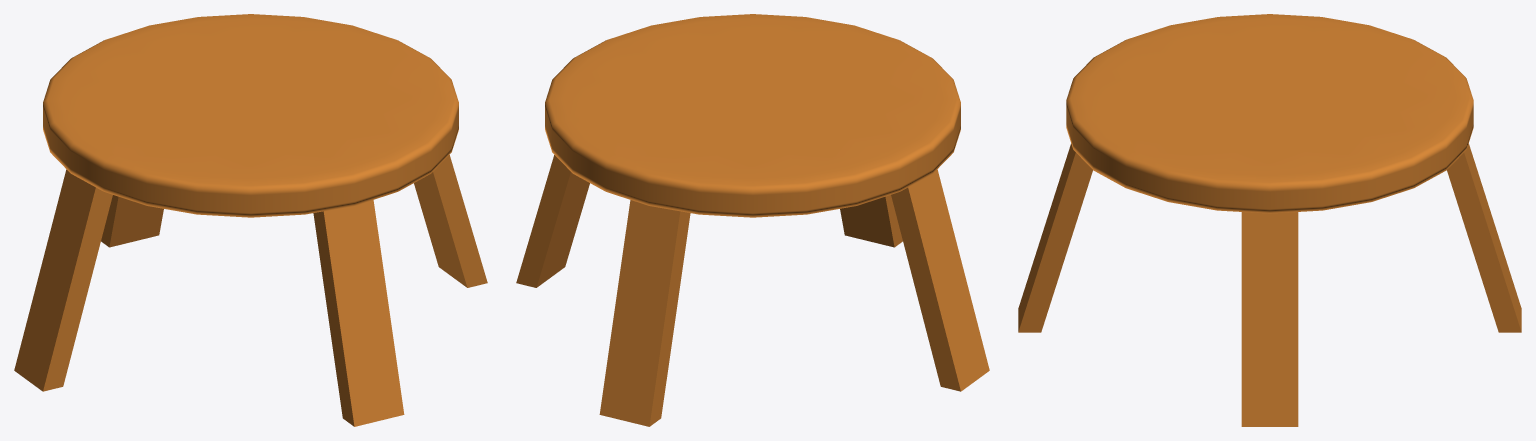
Rendered from frelwstol.fbx.
The picture shows the model from 3 angles, left to right: view 1: azimuth 30°, elevation 25°; view 2: azimuth 150°, elevation 25°; view 3: azimuth 270°, elevation 25°; orthographic projection. The views are drawn at different scales.
Visible parts, largest first — view 1: Cylinder, Cube, Cube.001; view 2: Cylinder, Cube, Cube.001; view 3: Cylinder, Cube, Cube.001.
Part boxes in pixels (x1,y1,x2,y2): Cylinder: [43, 14, 458, 217]; Cube: [14, 155, 487, 391]; Cube.001: [101, 195, 404, 426]; Cylinder: [545, 14, 960, 217]; Cube: [516, 155, 989, 391]; Cube.001: [599, 195, 902, 426]; Cylinder: [1066, 14, 1473, 213]; Cube: [1241, 212, 1298, 426]; Cube.001: [1018, 143, 1521, 332].
Bounding box in the file's own units: 296 × 145 × 296.
